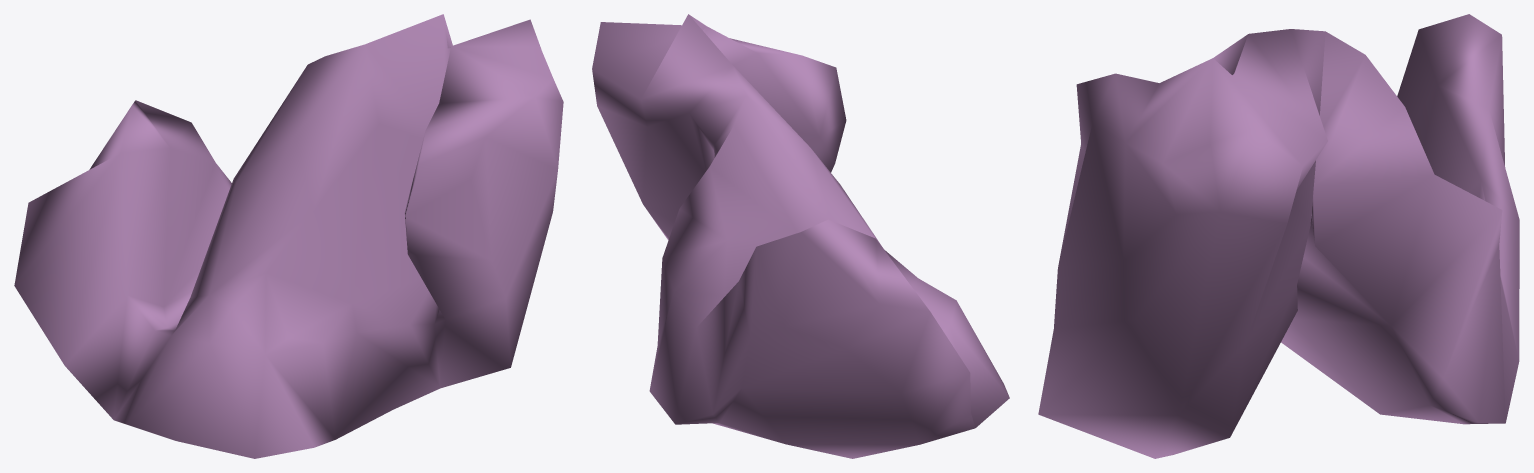
The picture shows the model from 3 angles, left to right: view 1: azimuth 30°, elevation 25°; view 2: azimuth 150°, elevation 25°; view 3: azimuth 270°, elevation 25°; orthographic projection. The views are drawn at different scales.
Parts seen in each view (by area): view 1: 左侧额极横回与横沟; view 2: 左侧额极横回与横沟; view 3: 左侧额极横回与横沟.
Boxes of the visible parts, x1,y1,x2,y2 form: 左侧额极横回与横沟: (14, 14, 563, 458); 左侧额极横回与横沟: (592, 14, 1009, 458); 左侧额极横回与横沟: (1038, 14, 1519, 458).
Size of the model in its own units: 0.0341 by 0.0256 by 0.0233.
